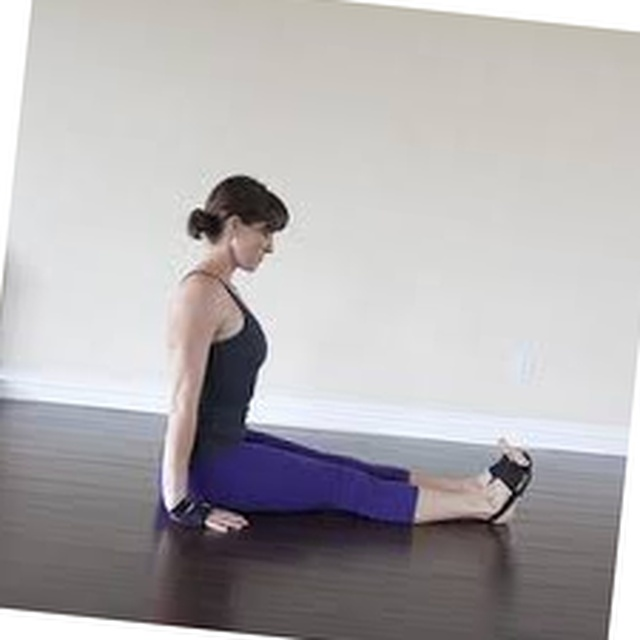Staff_Pose: (156, 174, 533, 540)
